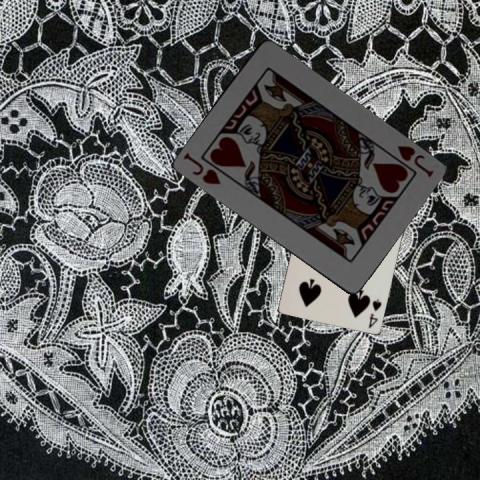4s: (365, 295, 383, 329)
Jh: (386, 142, 435, 179), (179, 149, 222, 187)
